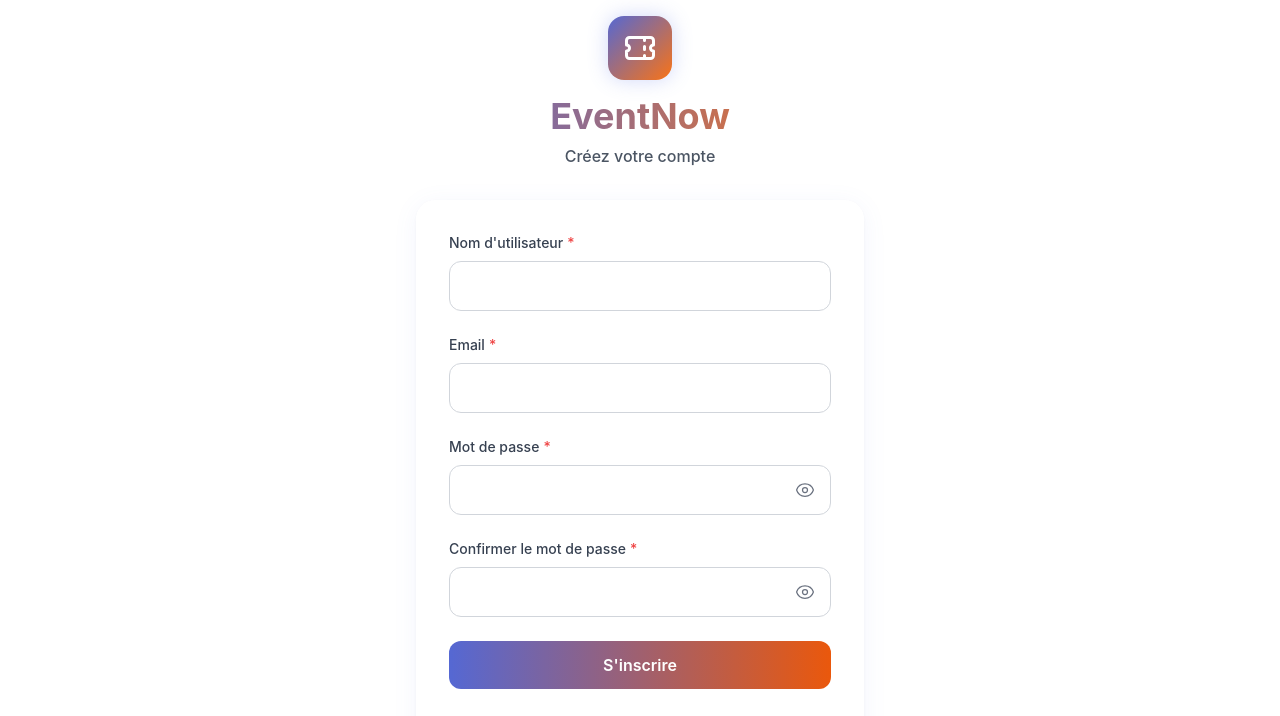
Test: RegisterPage - client-side validation › rejects a password shorter than 8 characters
Type "alice" into the field labelled "Nom d'utilisateur*" at x=640, y=286, box [449,261,831,311]
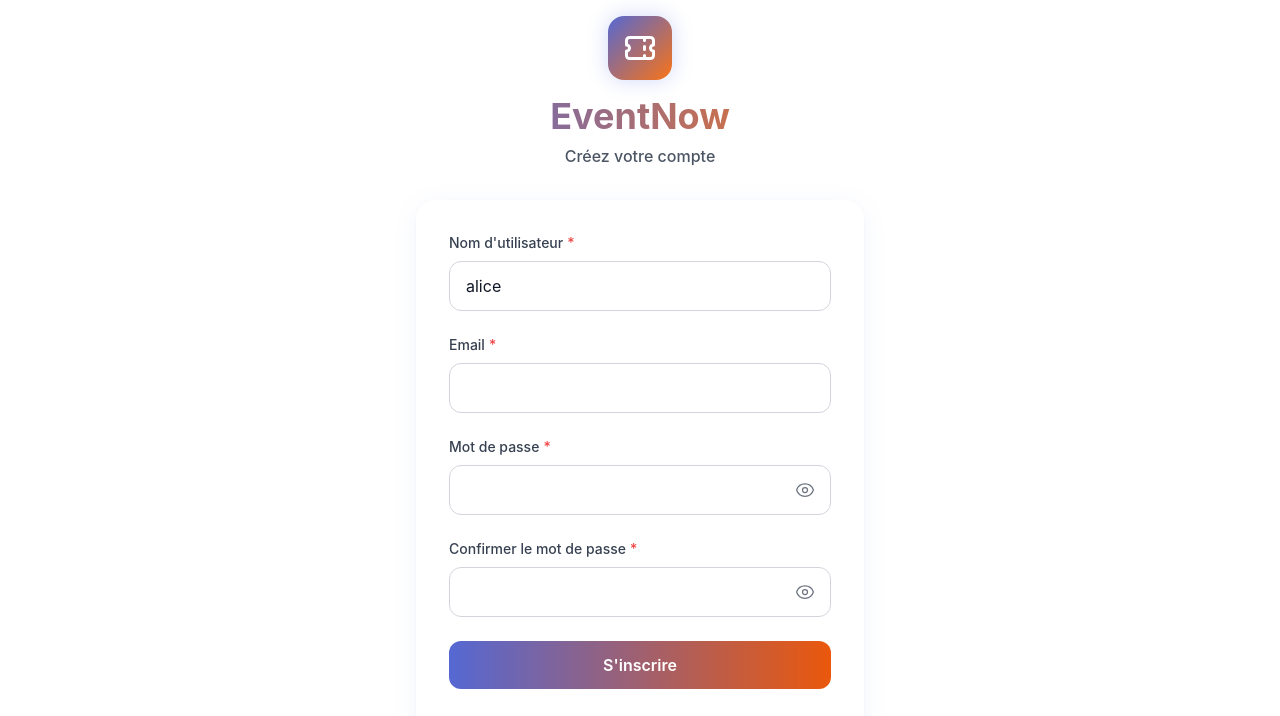
Type "alice@example.com" into the field labelled "Email*" at x=640, y=388, box [449,363,831,413]
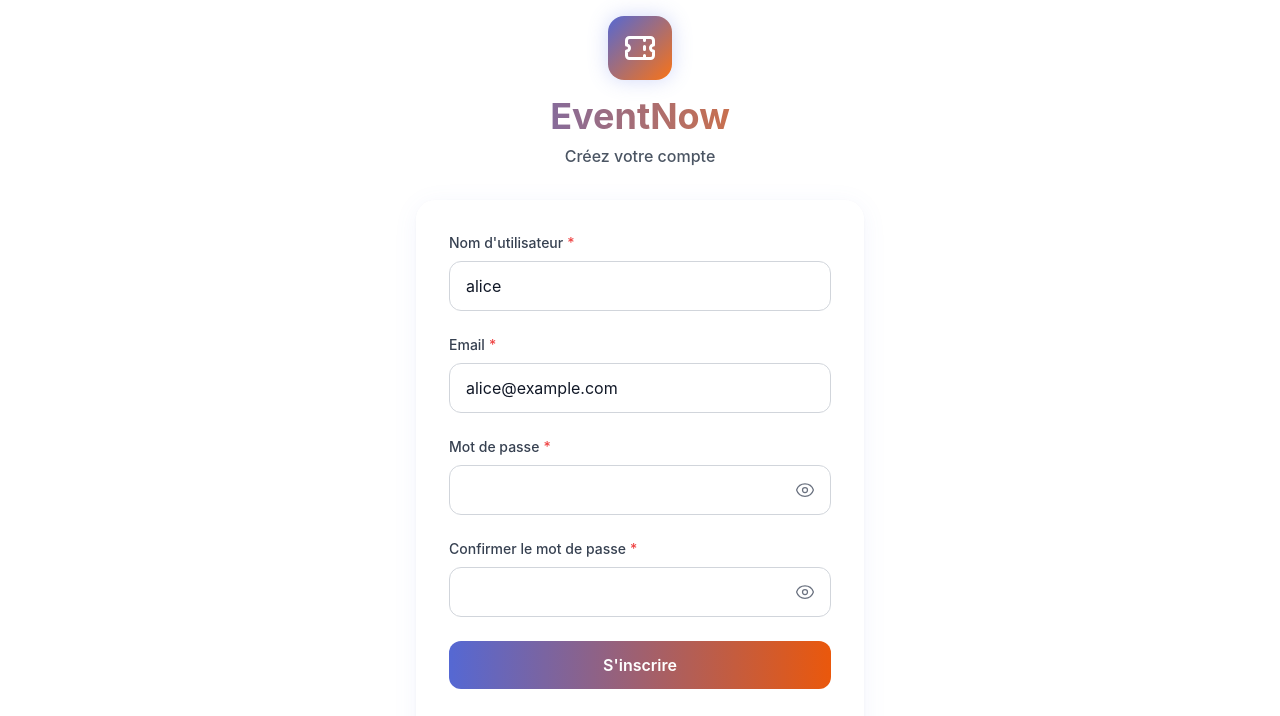
Type "short1" into the password field labelled "Mot de passe*" at x=640, y=490, box [449,465,831,515]
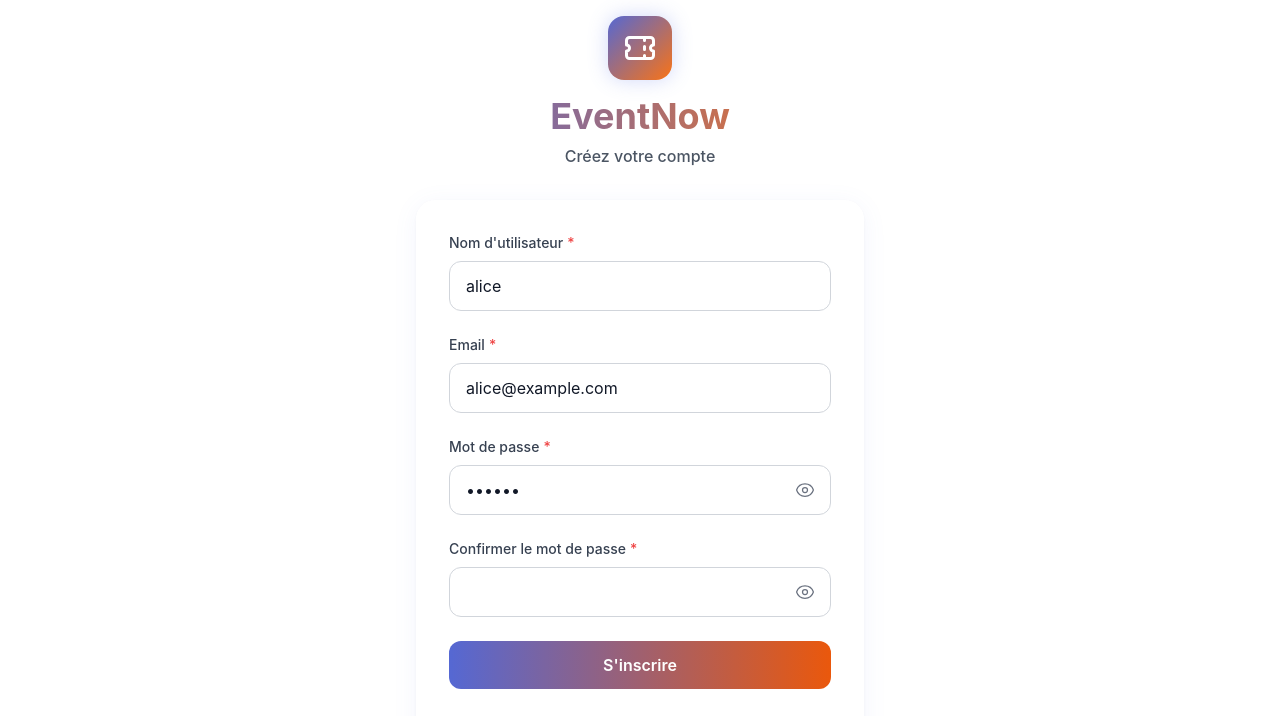
Type "short1" into the password field labelled "Confirmer le mot de passe*" at x=640, y=592, box [449,567,831,617]
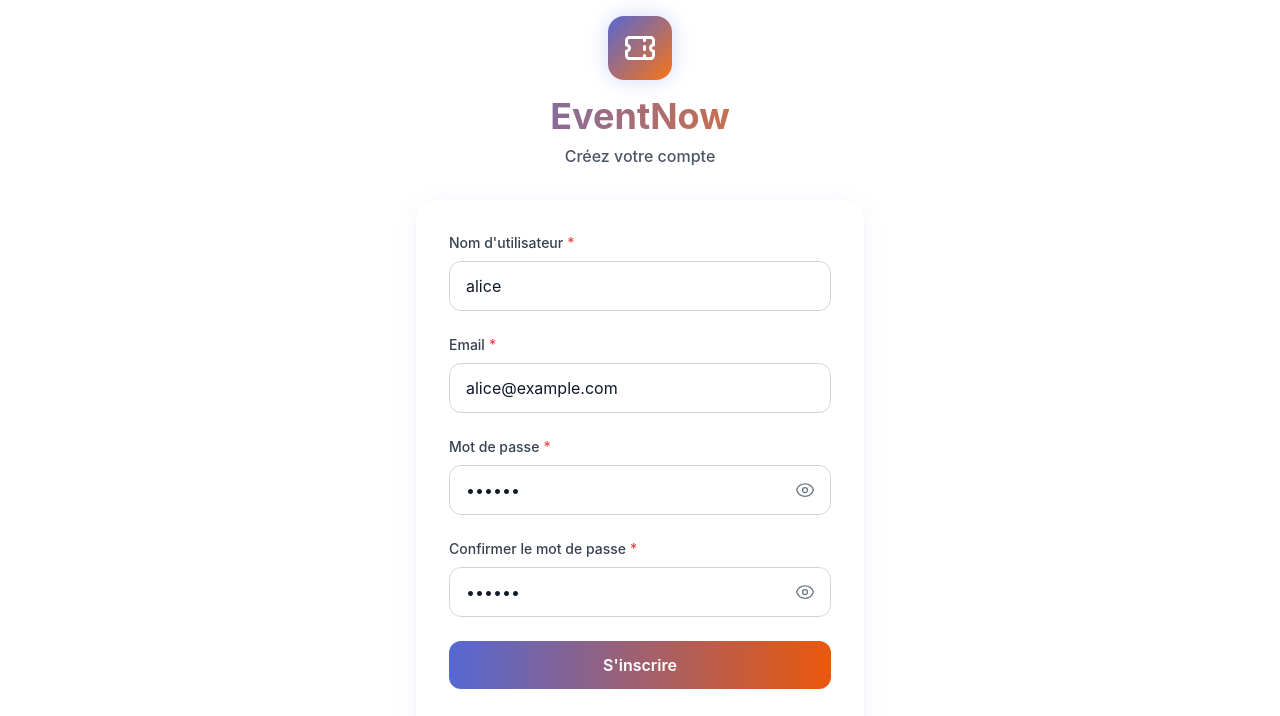
Click the button "S'inscrire" at x=640, y=665, box [449,641,831,689]
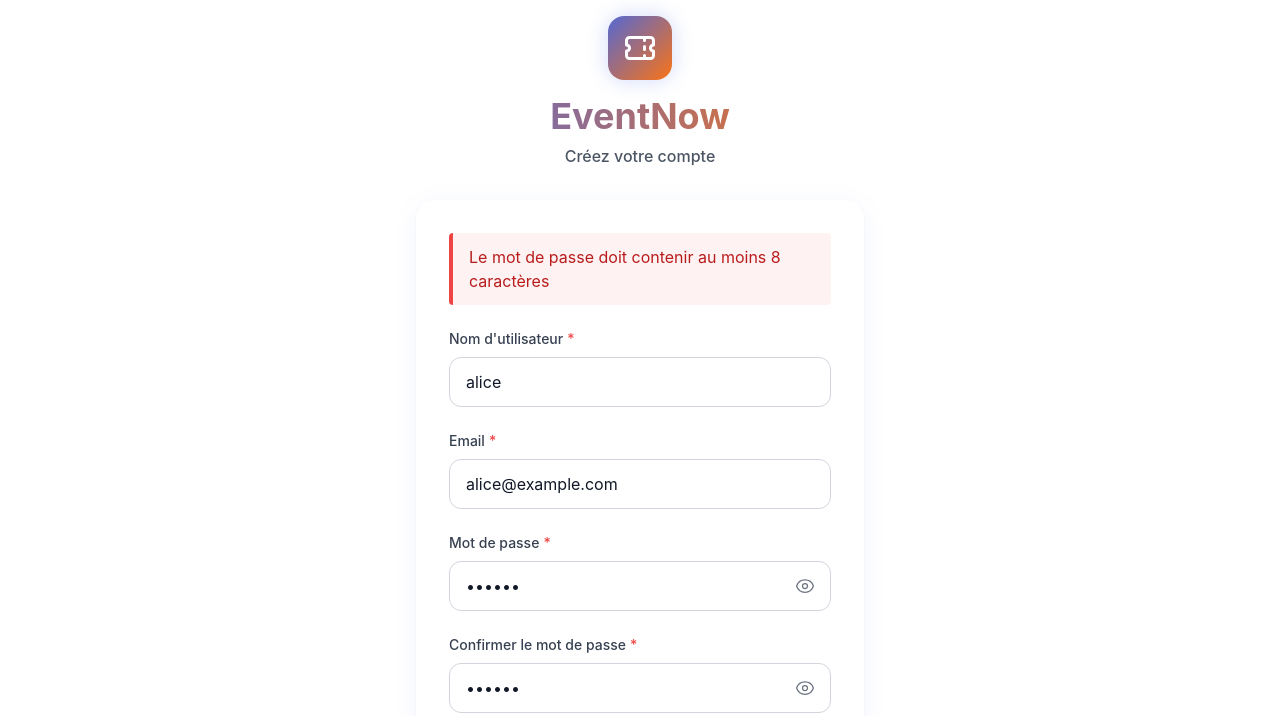
expect the text "Le mot de passe doit contenir au moins 8 caractères" is shown: met, box [469,245,815,293]
